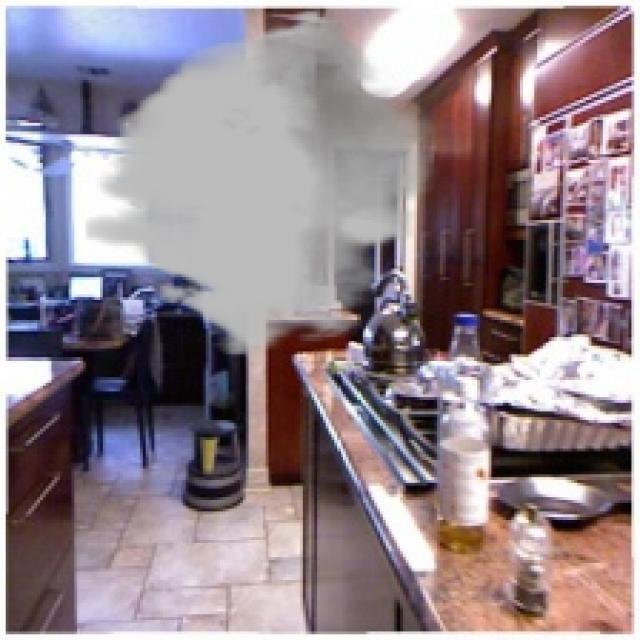Smoke: (86, 9, 434, 358)
